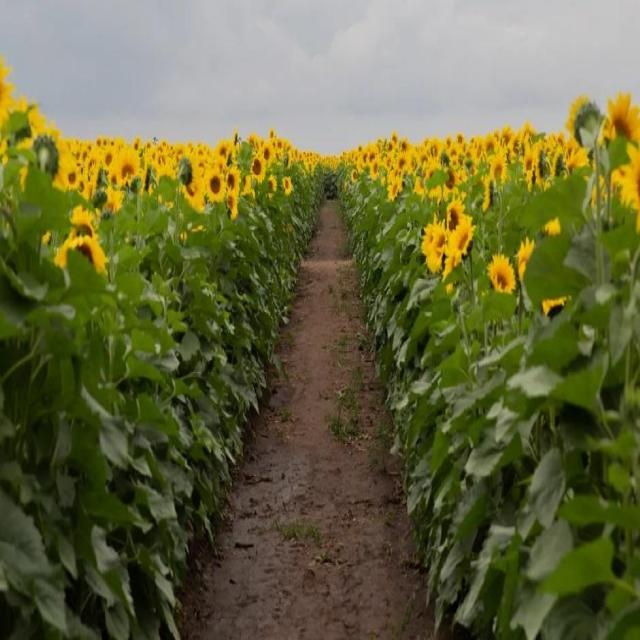row: (144, 193, 465, 640)
